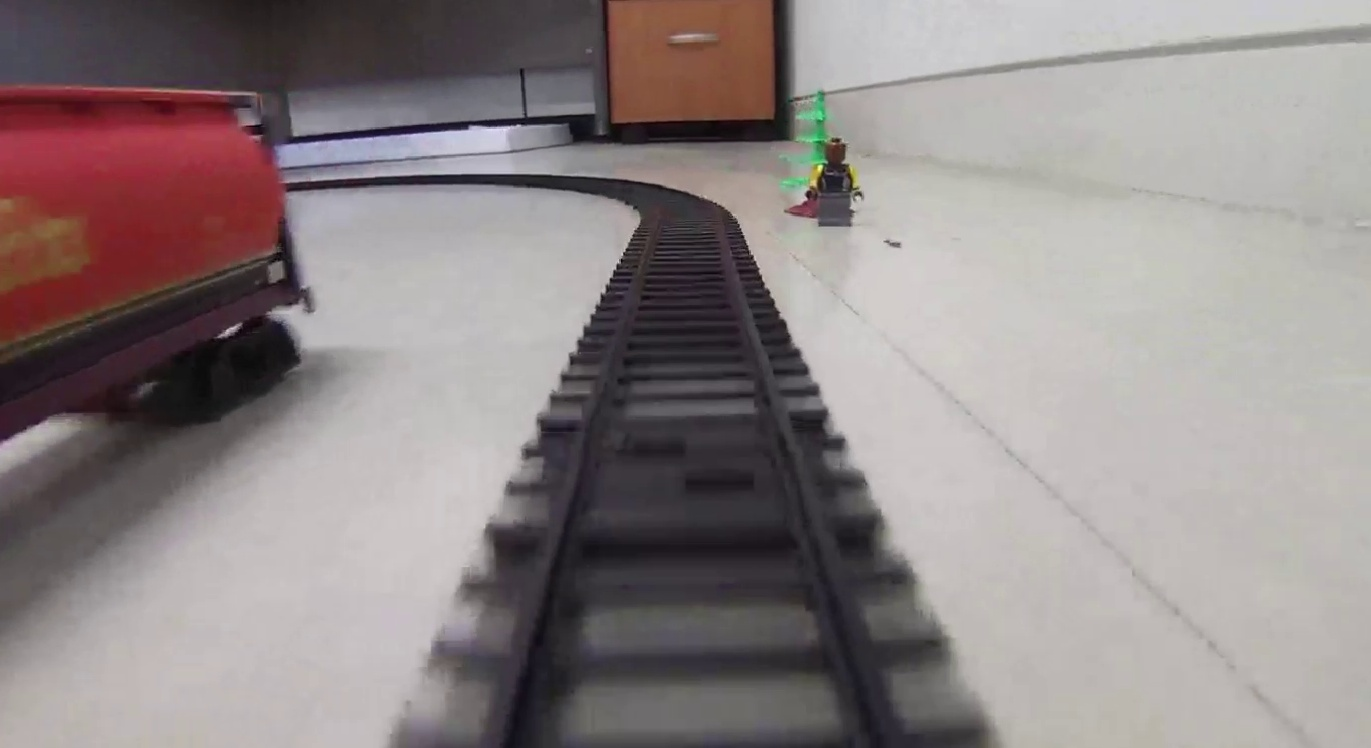people: (818, 138, 860, 225)
